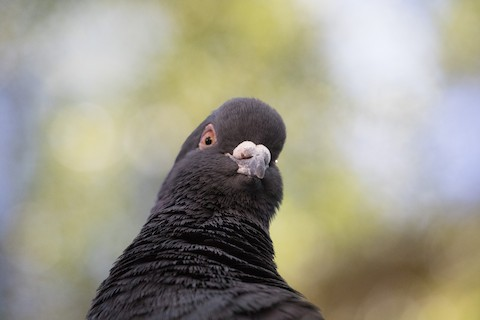pigeon: (66, 90, 336, 318)
